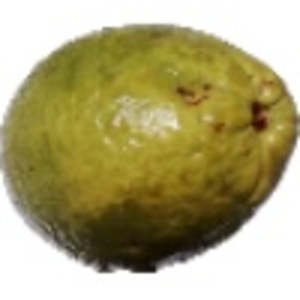goiaba: (4, 18, 295, 274)
